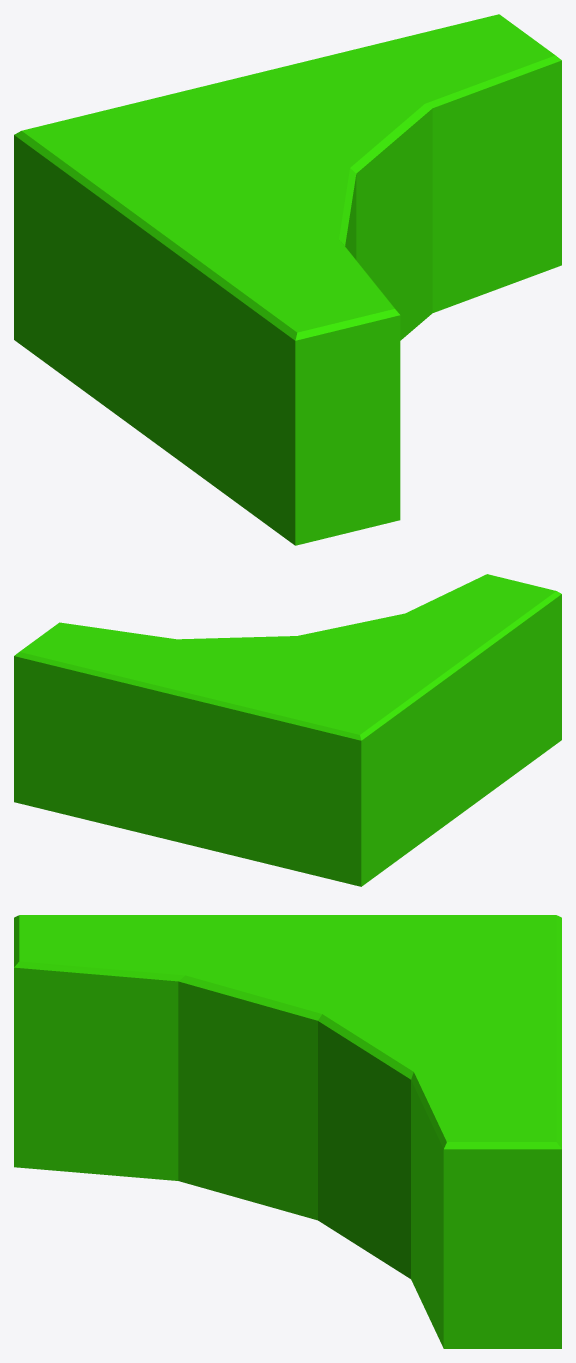
File: round_5x2_03.fbx
The picture shows the model from 3 angles, top to bottom: view 1: azimuth 30°, elevation 25°; view 2: azimuth 150°, elevation 25°; view 3: azimuth 270°, elevation 25°; orthographic projection. The views are drawn at different scales.
Visible parts, largest first — view 1: round_5x2_03; view 2: round_5x2_03; view 3: round_5x2_03.
Part boxes in pixels (x1,y1,x2,y2): round_5x2_03: (14,14,561,545); round_5x2_03: (14,574,561,886); round_5x2_03: (14,915,561,1348).
Bounding box in the file's own units: 510 × 210 × 510.
